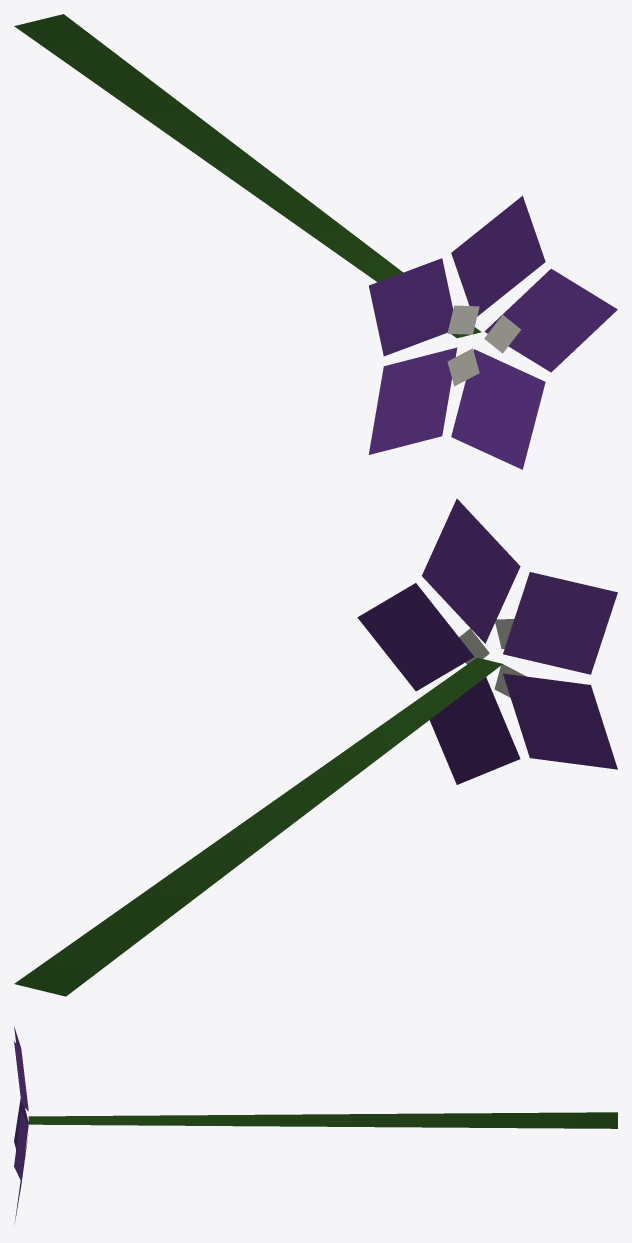
The model's file is Flower_Violet.glb.
The picture shows the model from 3 angles, top to bottom: view 1: azimuth 30°, elevation 25°; view 2: azimuth 150°, elevation 25°; view 3: azimuth 270°, elevation 25°; orthographic projection. The views are drawn at different scales.
Parts seen in each view (by area): view 1: Flower_Violet; view 2: Flower_Violet; view 3: Flower_Violet.
Boxes of the visible parts, <box> form: Flower_Violet: <box>14,14,617,469</box>; Flower_Violet: <box>14,498,617,996</box>; Flower_Violet: <box>14,1026,617,1225</box>.
Size of the model in its own units: 0.0201 by 0.0211 by 0.0615.
